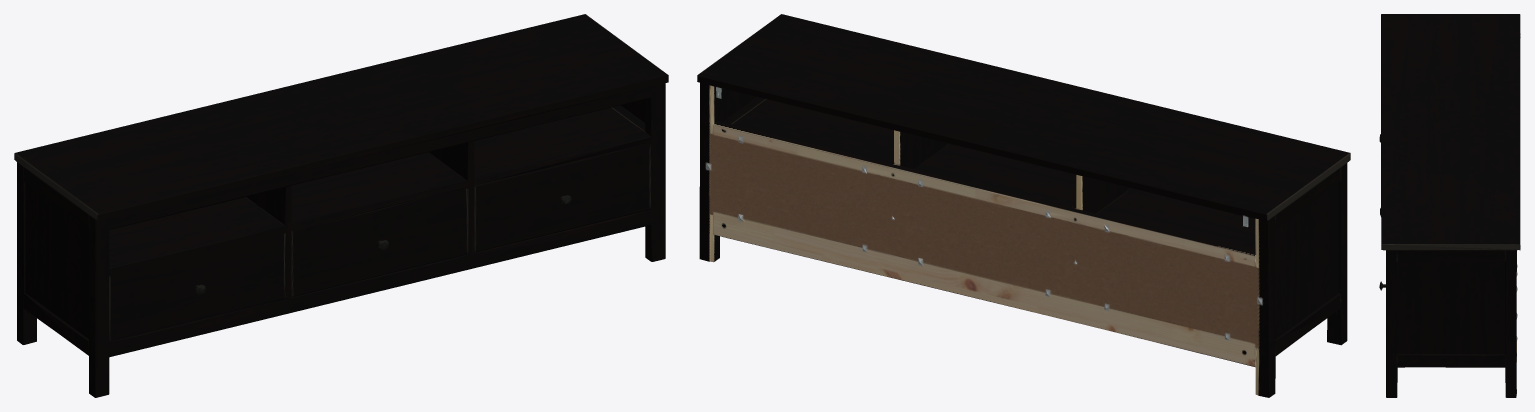
The model's file is hemnes_tv_unit_black_brown.glb.
3 renders of one model, left to right at view 1: azimuth 30°, elevation 25°; view 2: azimuth 150°, elevation 25°; view 3: azimuth 270°, elevation 25°, orthographic. The views are drawn at different scales.
Parts seen in each view (by area): view 1: ProcessedMeshNode; view 2: ProcessedMeshNode; view 3: ProcessedMeshNode.
Part boxes in pixels (x1,y1,x2,y2): ProcessedMeshNode: (14,14,668,397); ProcessedMeshNode: (697,14,1350,397); ProcessedMeshNode: (1379,14,1520,397).
Bounding box in the file's own units: 1.82 × 0.571 × 0.4718.
2 materials, 2 textured.
